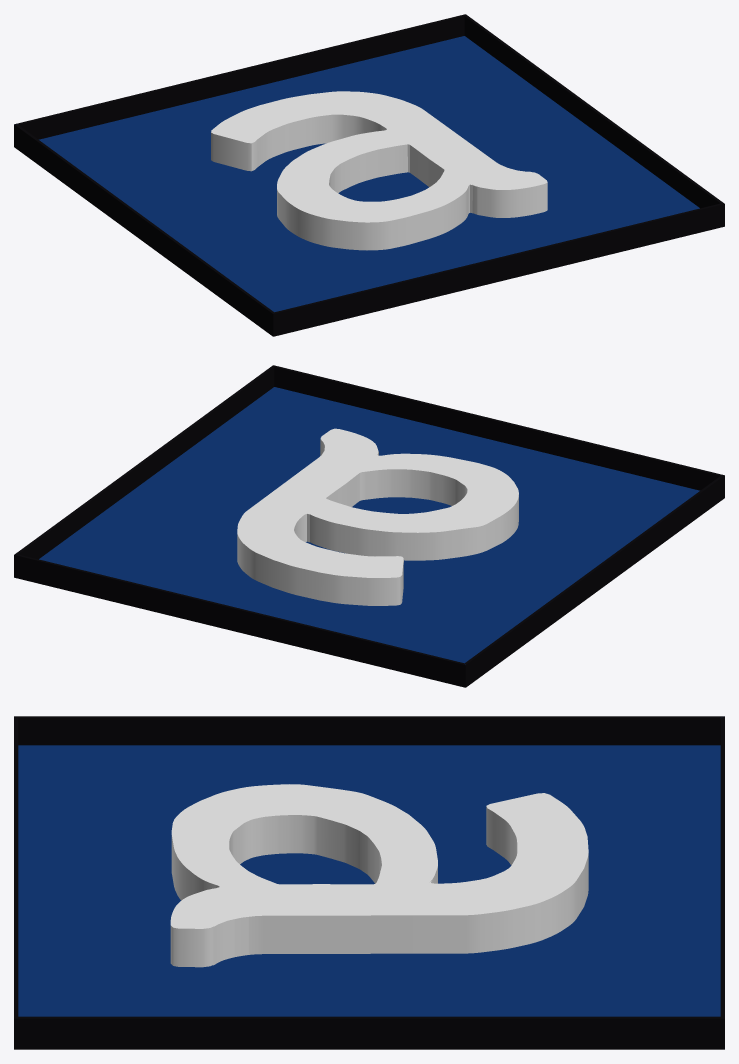
Rendered from algardata.gltf.
The picture shows the model from 3 angles, top to bottom: view 1: azimuth 30°, elevation 25°; view 2: azimuth 150°, elevation 25°; view 3: azimuth 270°, elevation 25°; orthographic projection. The views are drawn at different scales.
Visible parts, largest first — view 1: Plane, Cube; view 2: Plane, Cube; view 3: Plane, Cube.
Boxes of the visible parts, x1,y1,x2,y2 form: Plane: (14,14,724,336); Cube: (211,91,547,250); Plane: (14,365,724,687); Cube: (237,428,518,605); Plane: (14,716,724,1049); Cube: (170,784,588,967).
Size of the model in its own units: 5.01 by 0.3279 by 4.98.
2 materials, 2 textured.
